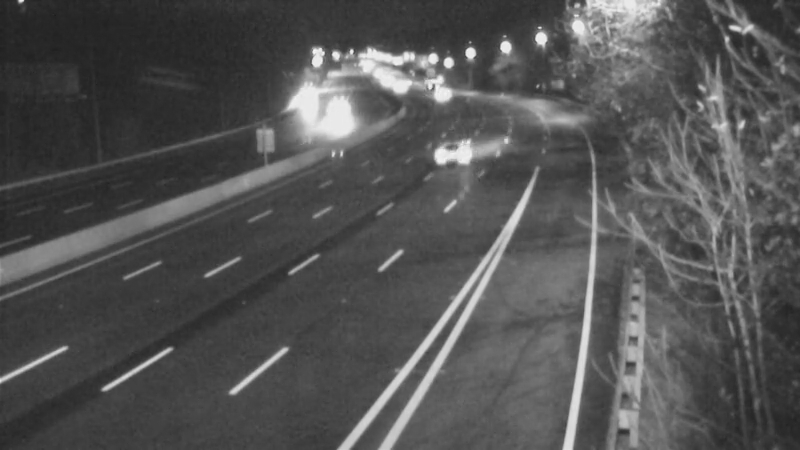vehicle: (410, 115, 490, 195), (406, 57, 456, 107), (417, 67, 467, 117), (314, 80, 364, 130)
